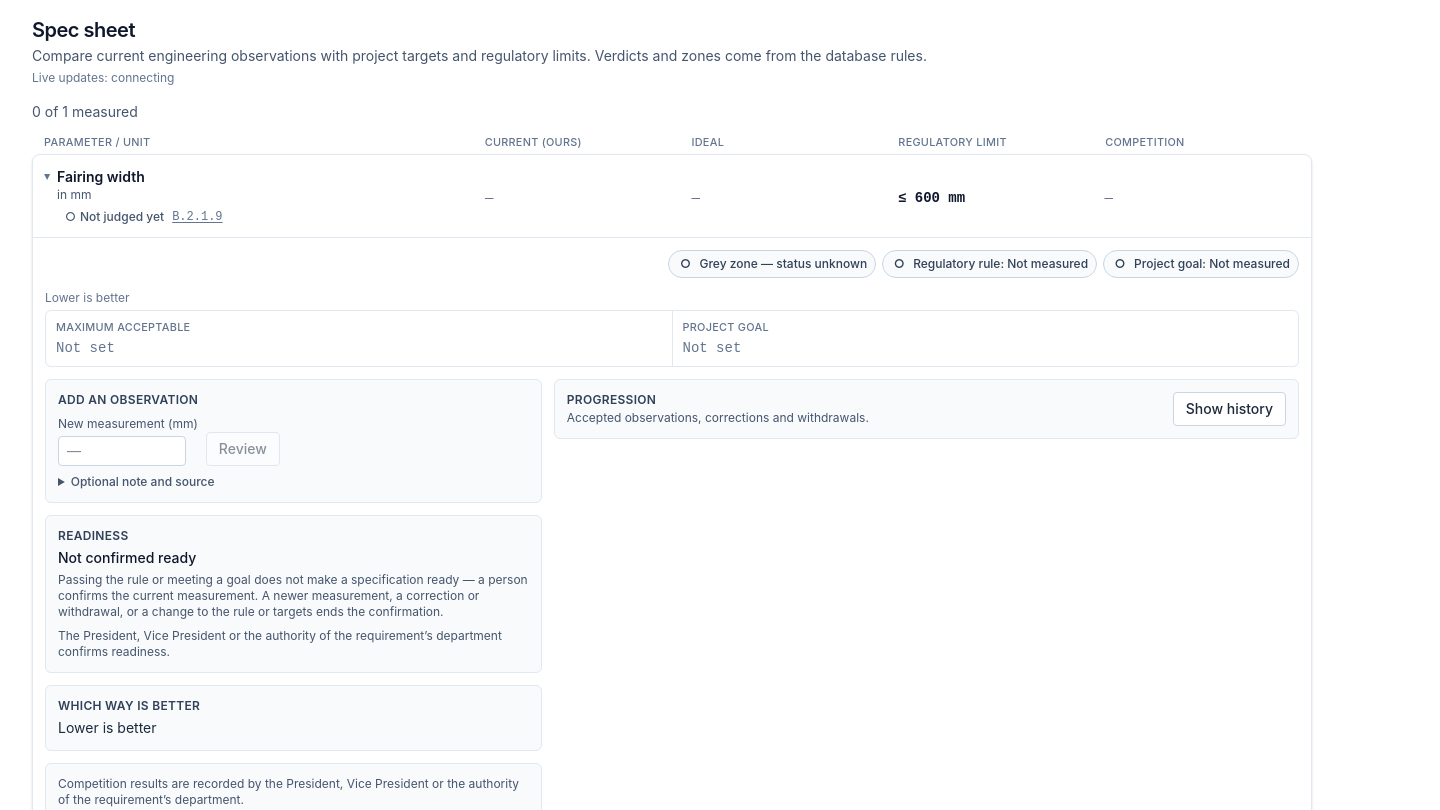
Test: typing and leaving the field never record anything › Review asks for confirmation naming the value and unit, and still sends nothing
The width and height of the screenshot is (1440, 810).
Type "612" into the number field labelled "New measurement (mm)". click: (122, 451)
box: x1=58 y1=436 x2=186 y2=466
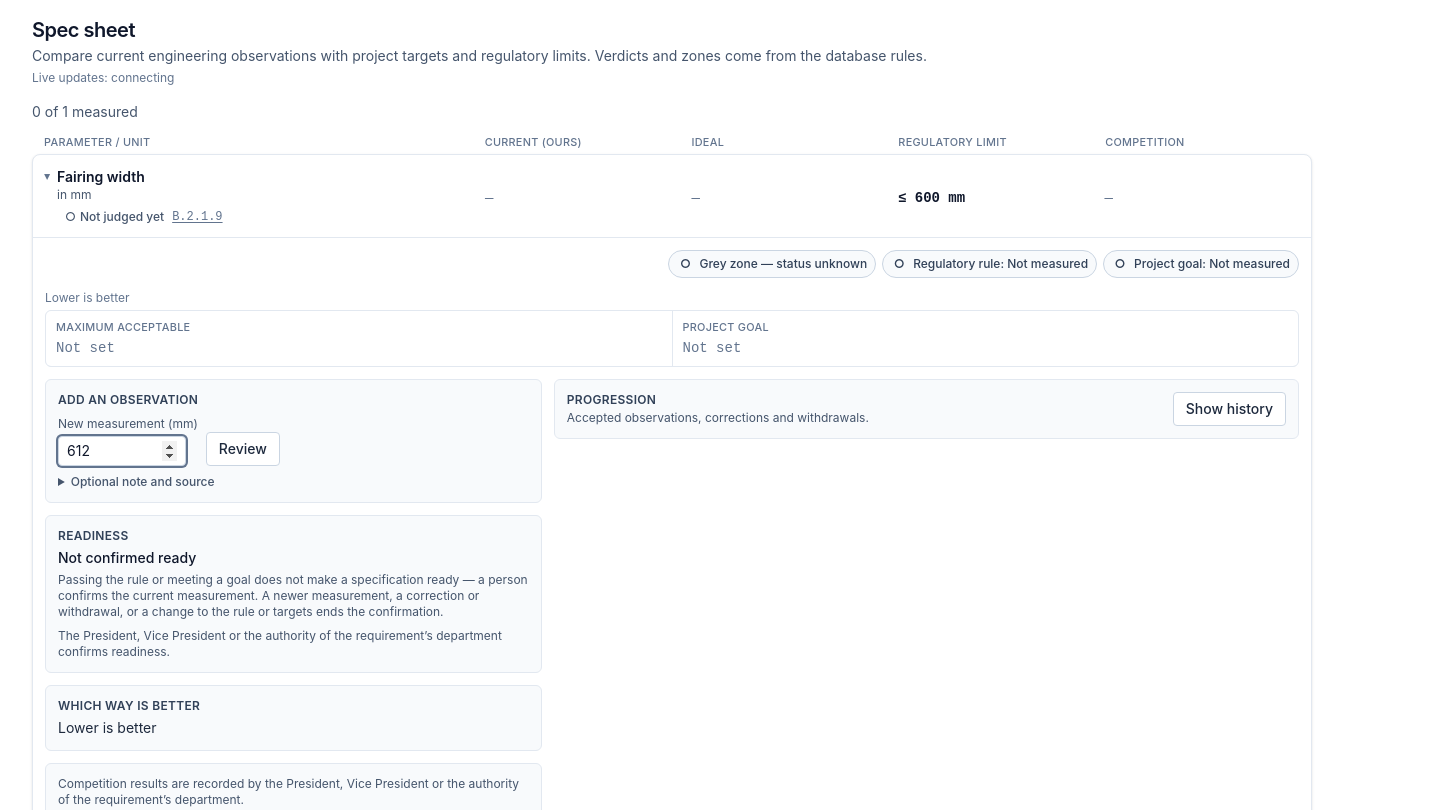
Click the button "Review". click: (243, 449)
box: x1=206 y1=432 x2=280 y2=466
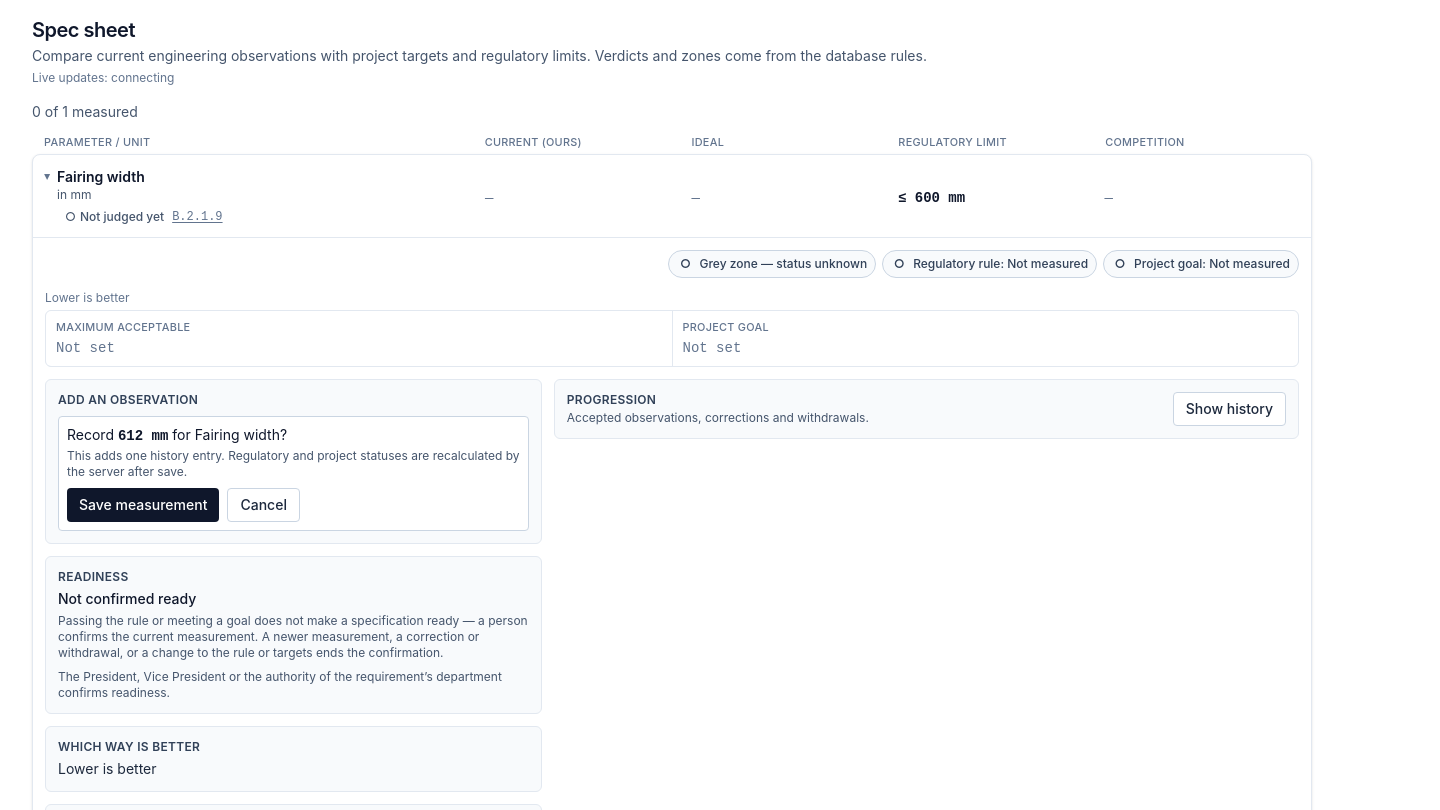
Expected: the element with test id "confirm-spec-fairing" shows "Record 612 mm for Fairing width?", x1=58 y1=416 x2=529 y2=531
Expected: the element with test id "confirm-spec-fairing" shows "adds one history entry", x1=67 y1=448 x2=520 y2=479
